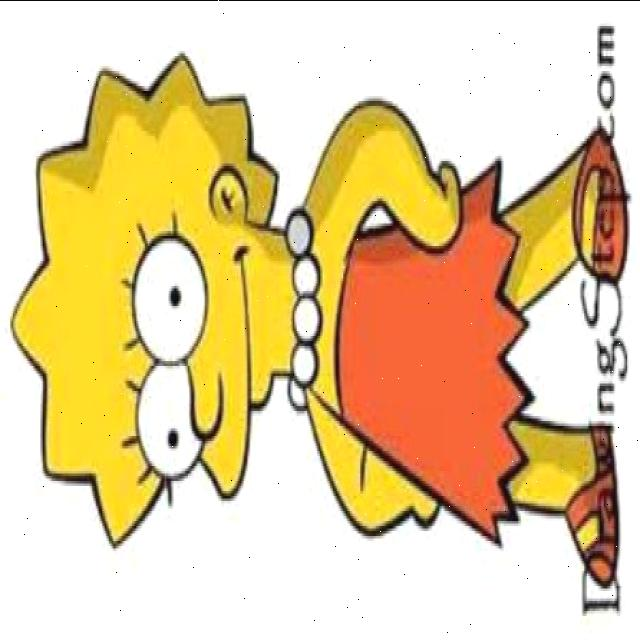Lisa Simpson: (10, 44, 326, 546)
